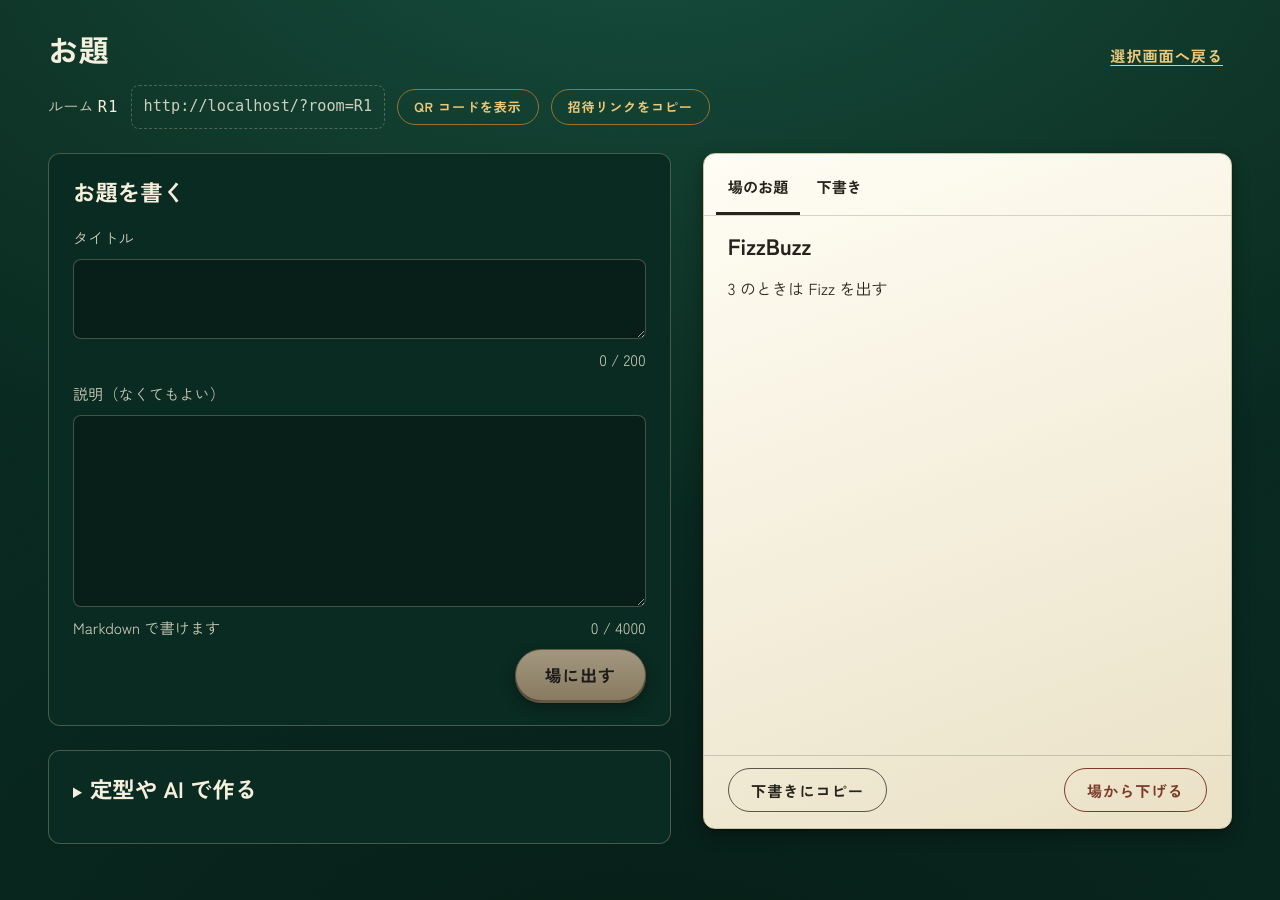
Test case: 書く › Given 下書きのタブ / When 下端を見る / Then 添え書きだけが出て、下書きにコピーも場から下げるも無い
The width and height of the screenshot is (1280, 900).
Click the tab "下書き": click(839, 188) [804,162,874,215]
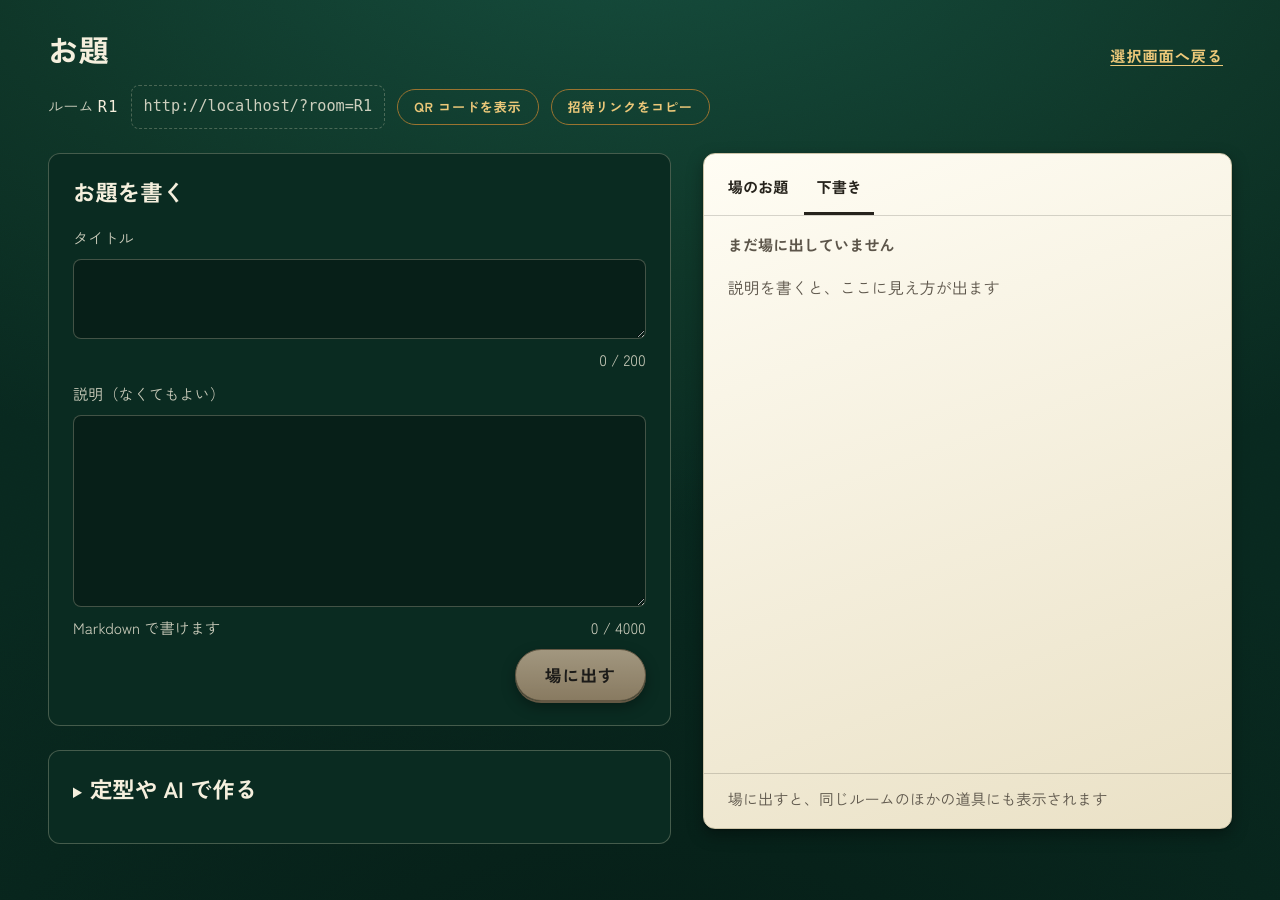
Expected: the text "場に出すと、同じルームのほかの道具にも表示されます" is shown, [728,787,1107,809]
Expected: the button "下書きにコピー" is gone
Expected: the button "場から下げる" is gone
